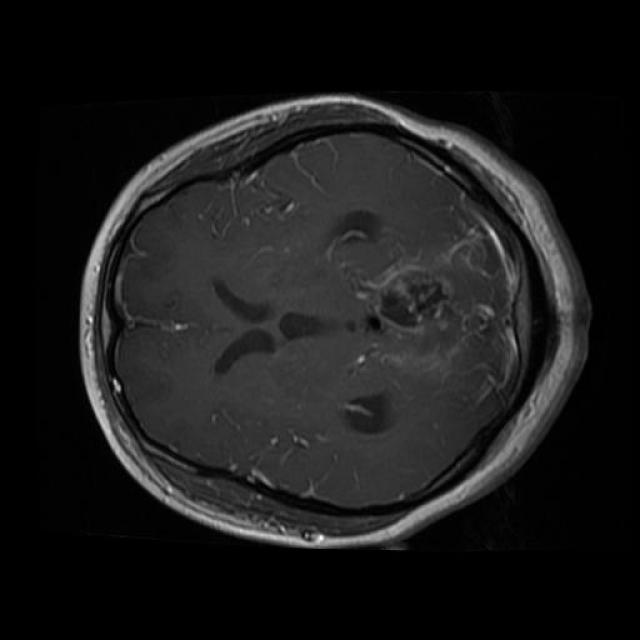Glioma: (355, 225, 518, 388)
